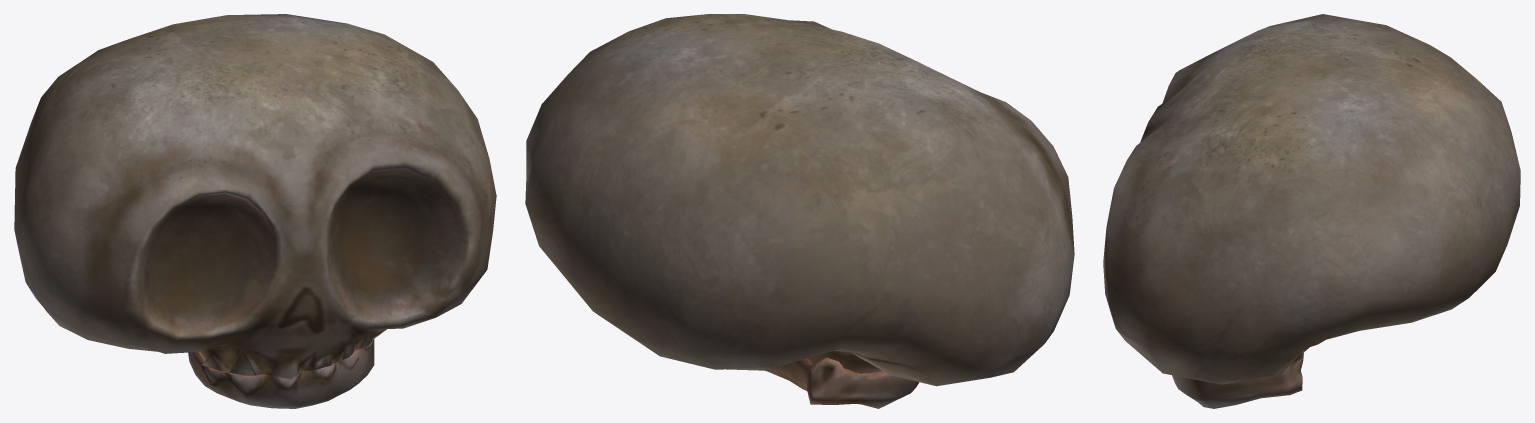
File: Cave skeleton skull.fbx
The picture shows the model from 3 angles, left to right: view 1: azimuth 30°, elevation 25°; view 2: azimuth 150°, elevation 25°; view 3: azimuth 270°, elevation 25°; orthographic projection. The views are drawn at different scales.
Visible parts, largest first — view 1: node_id30; view 2: node_id30; view 3: node_id30.
Part boxes in pixels (x1=…): node_id30: x1=14, y1=14, x2=496, y2=408; node_id30: x1=525, y1=14, x2=1074, y2=408; node_id30: x1=1103, y1=14, x2=1520, y2=408.
Size of the model in its own units: 0.5123 by 0.3722 by 0.4344.
1 material, 1 textured.
